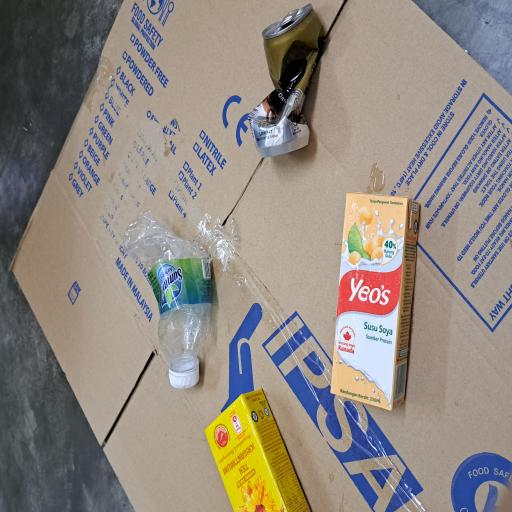can: (262, 332, 380, 442)
cardboard: (0, 15, 383, 512)
drink carton: (0, 259, 88, 406), (81, 432, 240, 512)
plastic bottle: (110, 160, 224, 287)
plastic bottle cap: (91, 216, 108, 263)
